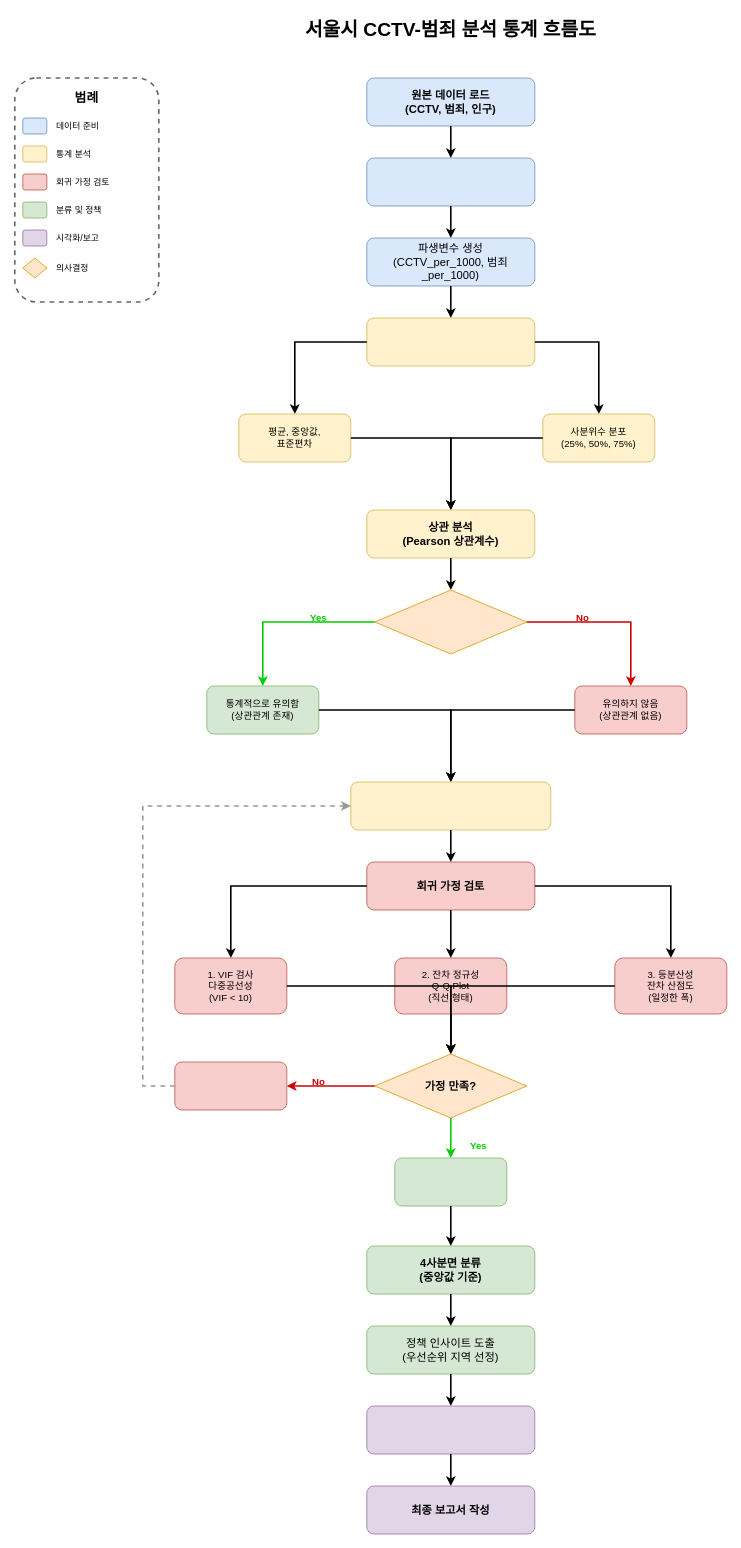
The diagram is 741 pixels wide and 1548 high, and some of its shapes have lost their labels. The centre of each missing label's shape, as x and y in pixels:
p-value < 0.05?: pixel 450 621
기술 통계 분석: pixel 450 341
다중 선형 회귀 분석 Y = β₀ + β₁X₁ + β₂X₂ + ε: pixel 450 805
대시보드 시각화 (Streamlit + Plotly): pixel 450 1429
데이터 정제 (결측값, 이상치, 표준화): pixel 450 181
모델 수정 (로그변환, 변수 제거 등): pixel 230 1085
회귀 결과 해석 (R², 회귀계수, p-value): pixel 450 1181
